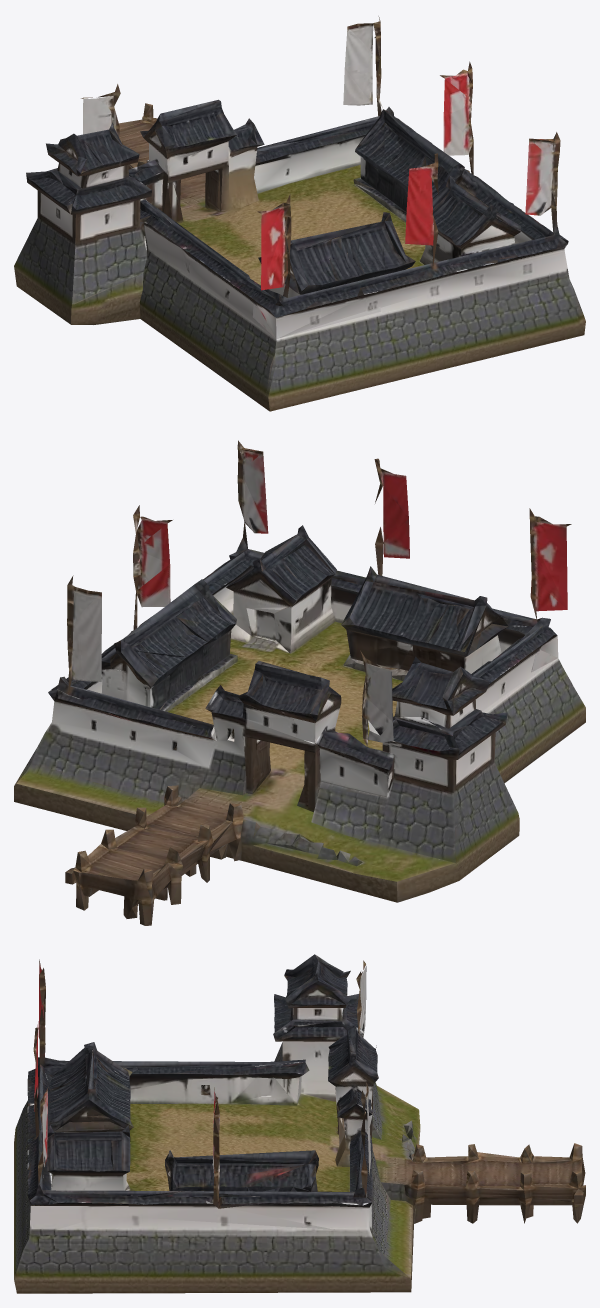
Rendered from camp_japan_2.glb.
3 renders of one model, top to bottom at view 1: azimuth 30°, elevation 25°; view 2: azimuth 150°, elevation 25°; view 3: azimuth 270°, elevation 25°, orthographic. The views are drawn at different scales.
Parts seen in each view (by area): view 1: camp_japan_2; view 2: camp_japan_2; view 3: camp_japan_2.
Part boxes in pixels (x1,y1,x2,y2): camp_japan_2: (14, 16, 585, 411); camp_japan_2: (14, 440, 585, 925); camp_japan_2: (14, 954, 585, 1293).
Bounding box in the file's own units: 0.7556 × 0.3886 × 1.
1 material, 1 textured.
